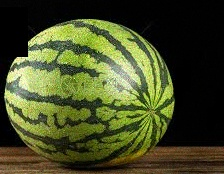watermelon: (5, 19, 173, 166)
